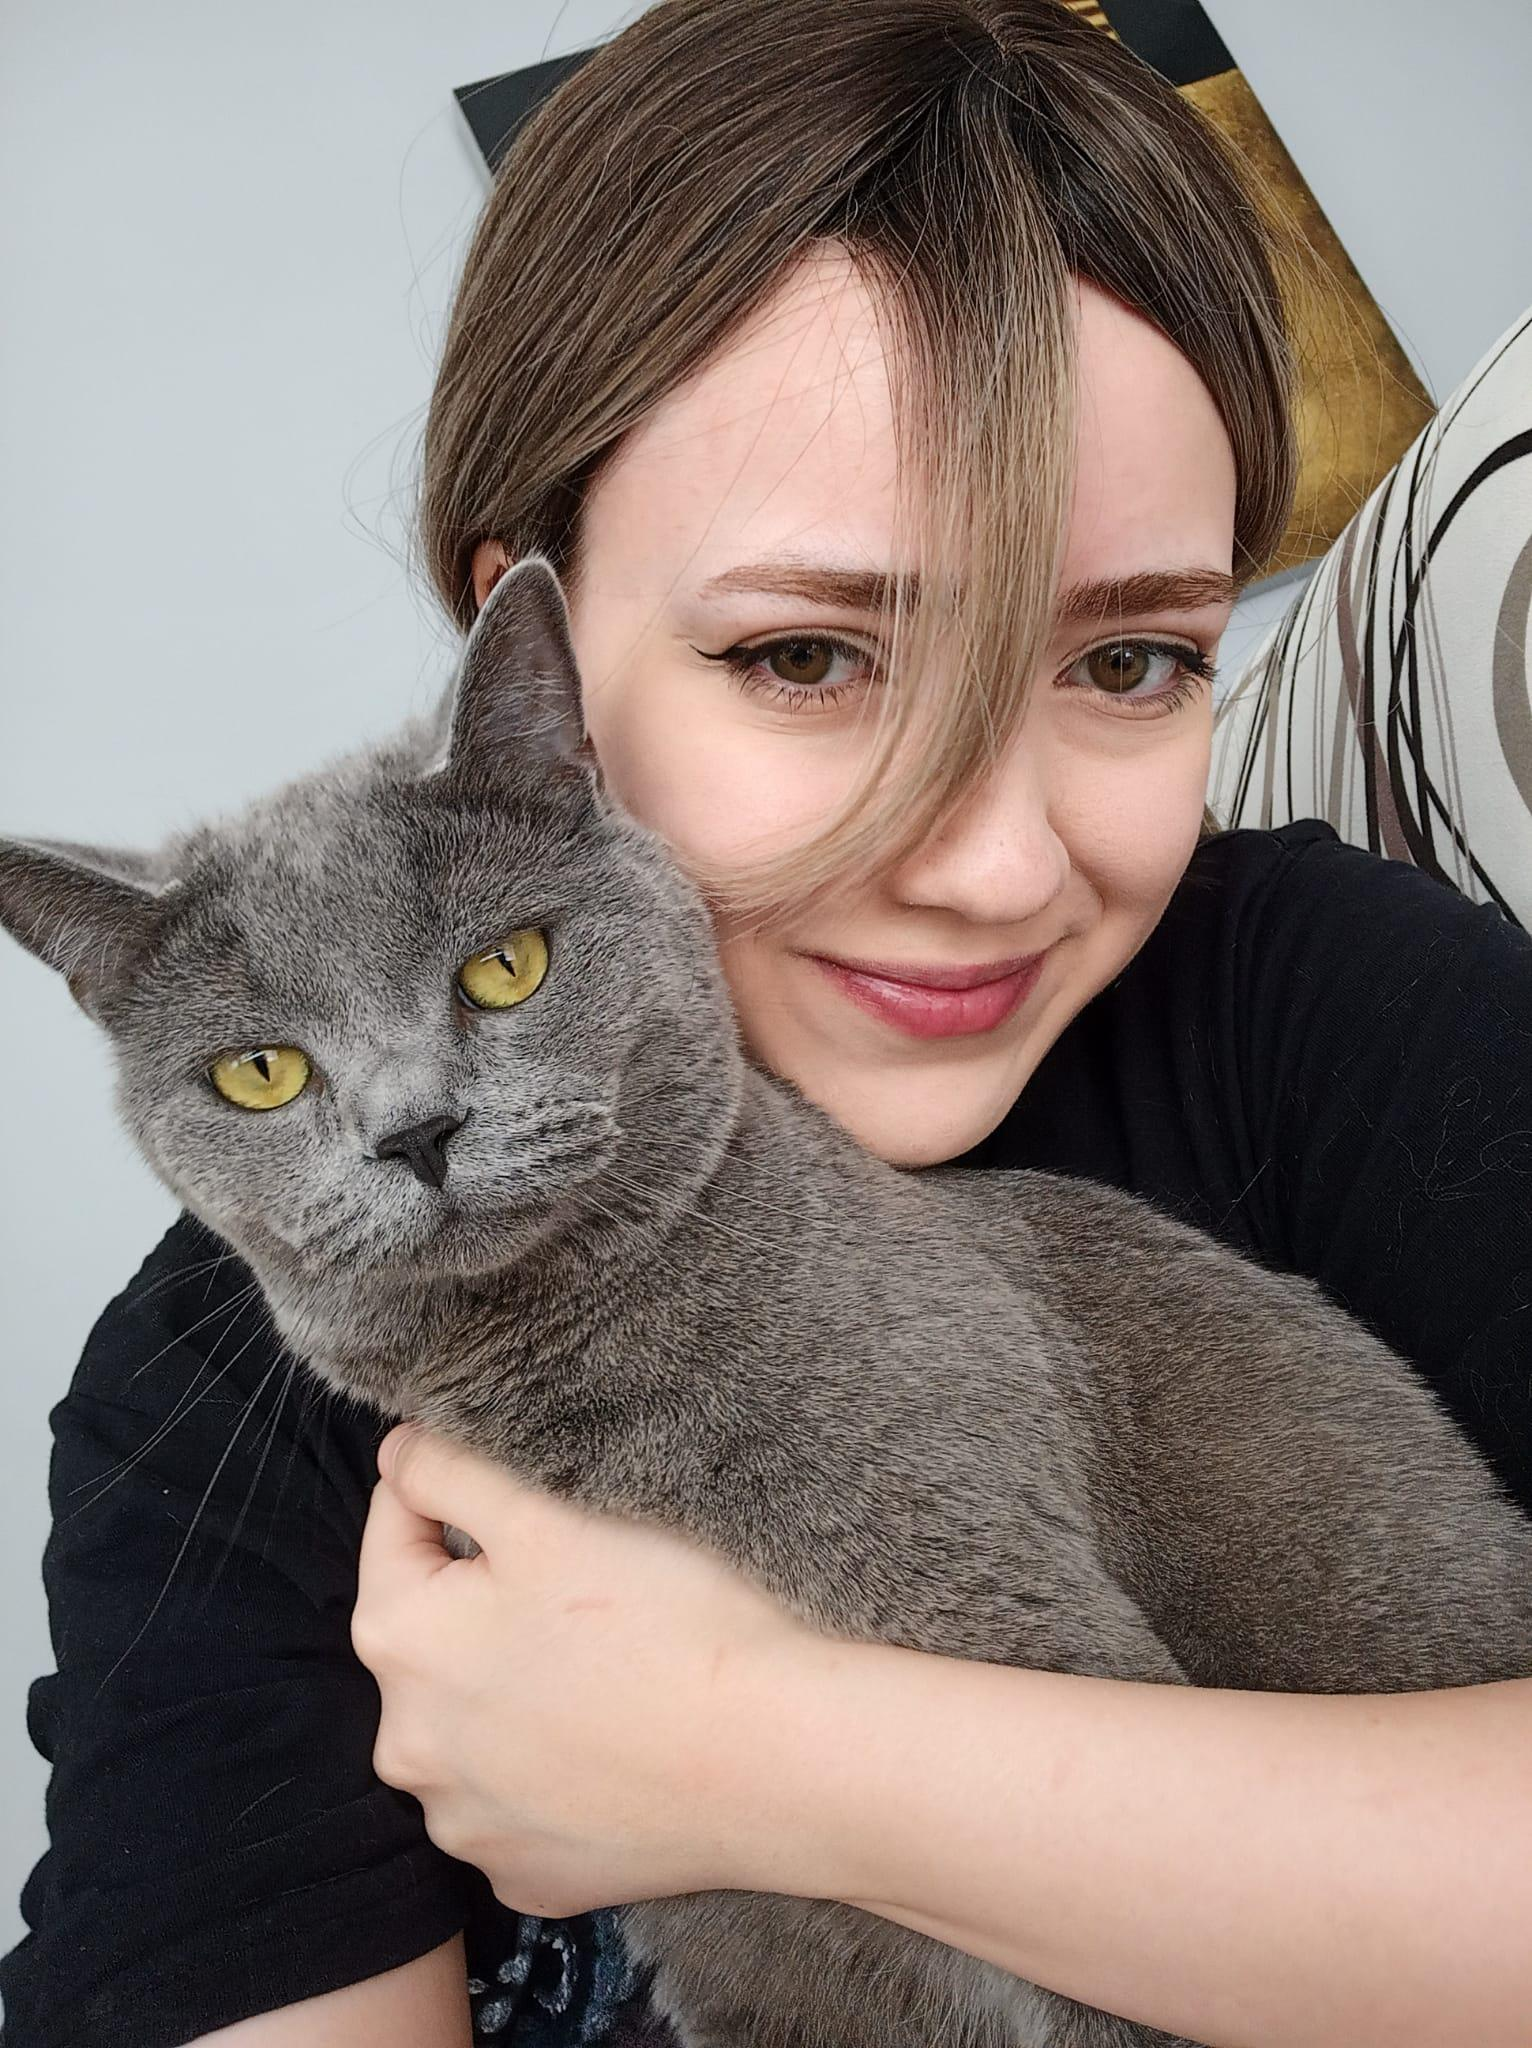kedo: (10, 565, 732, 1306)
